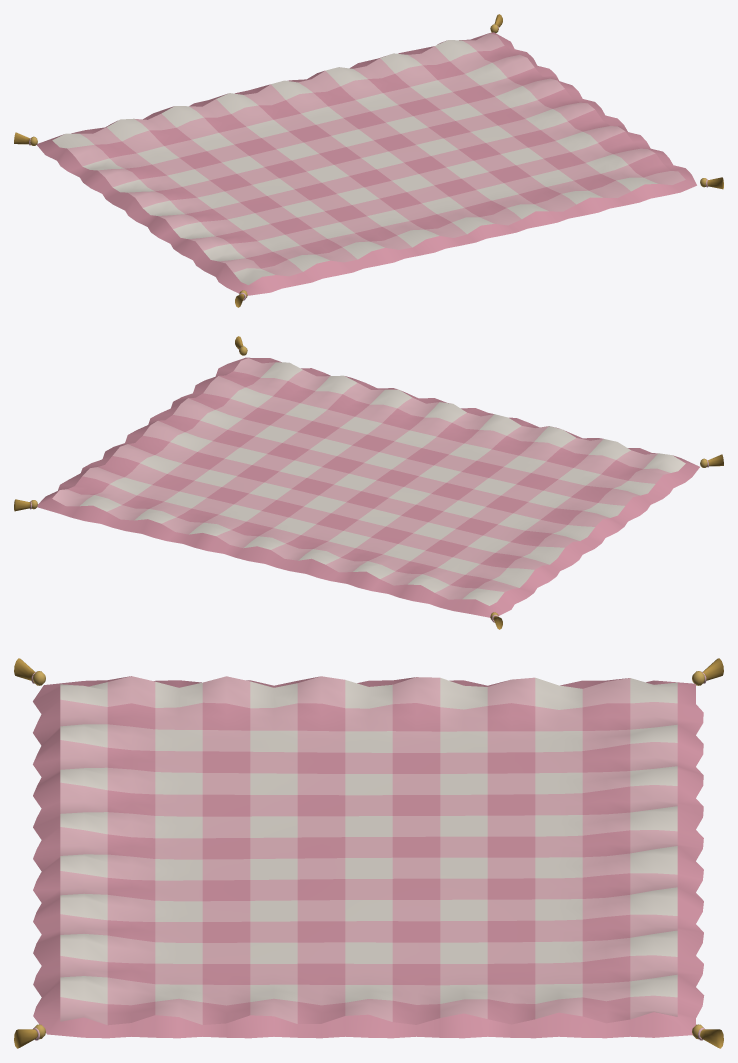
The model's file is picnic_blanket.glb.
The picture shows the model from 3 angles, top to bottom: view 1: azimuth 30°, elevation 25°; view 2: azimuth 150°, elevation 25°; view 3: azimuth 270°, elevation 25°; orthographic projection. The views are drawn at different scales.
Visible parts, largest first — view 1: picnic_blanket; view 2: picnic_blanket; view 3: picnic_blanket.
Boxes of the visible parts, <box> form: picnic_blanket: <box>14,14,723,307</box>; picnic_blanket: <box>14,336,723,629</box>; picnic_blanket: <box>14,658,723,1048</box>.
Size of what is drawn, in the model's own units: 2 by 0.05 by 1.6.
